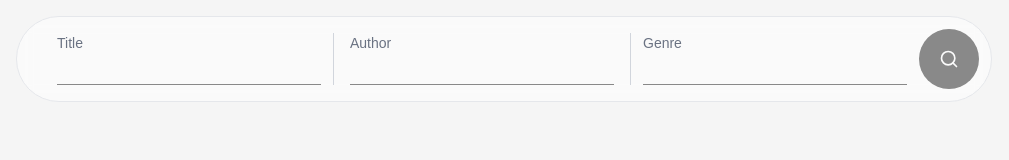
Scenario: SearchForm › shows validation error on Enter when all fields are empty
Click the field labelled "Title": {"x": 189, "y": 69} [57, 53, 321, 85]
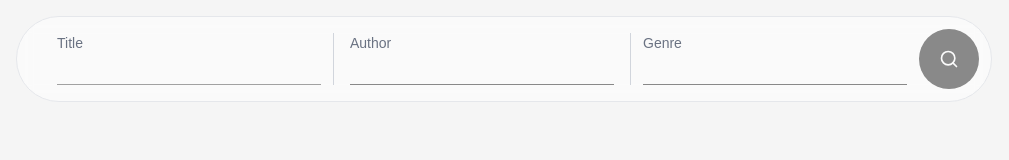
Press Enter
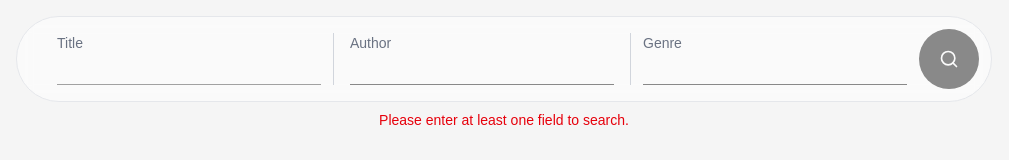
Expected: the text "Please enter at least one field to search." is shown, [379, 112, 629, 128]
